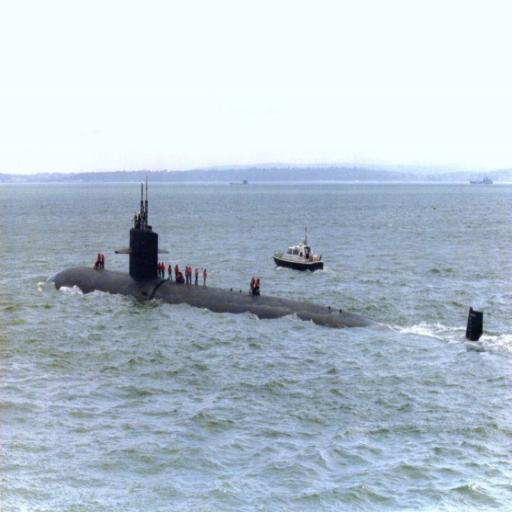submarine: (49, 175, 484, 339)
